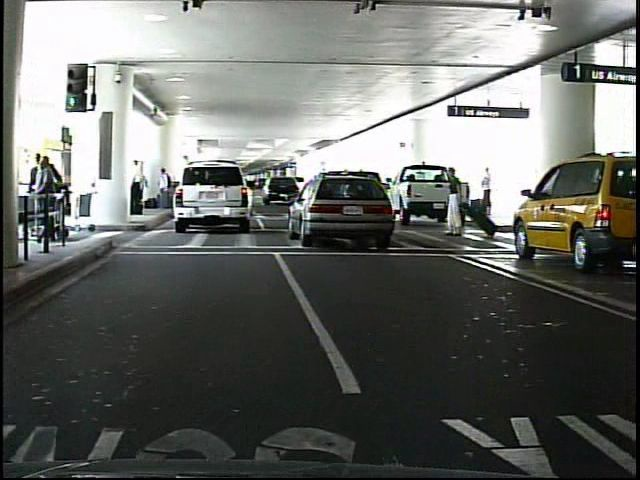person: (448, 165, 470, 239), (135, 157, 149, 217), (484, 165, 499, 218), (162, 166, 176, 211)
